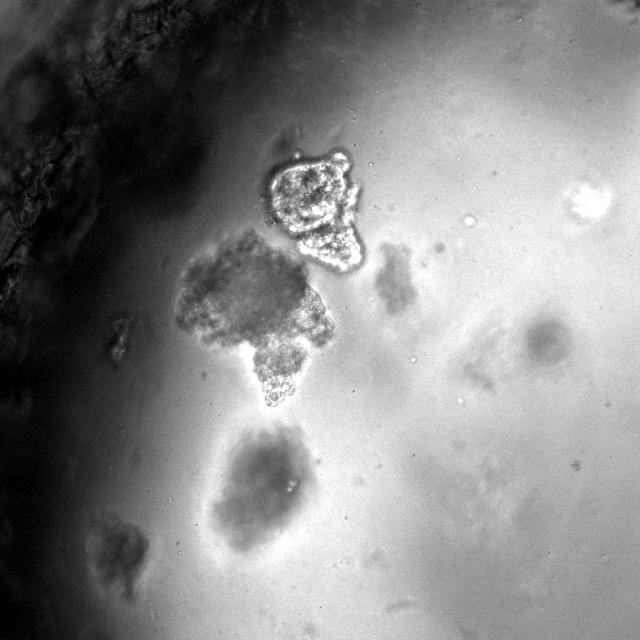organoid: (175, 229, 333, 405), (211, 426, 314, 552), (268, 149, 364, 271), (88, 512, 149, 597), (376, 243, 416, 314), (104, 317, 132, 362)
